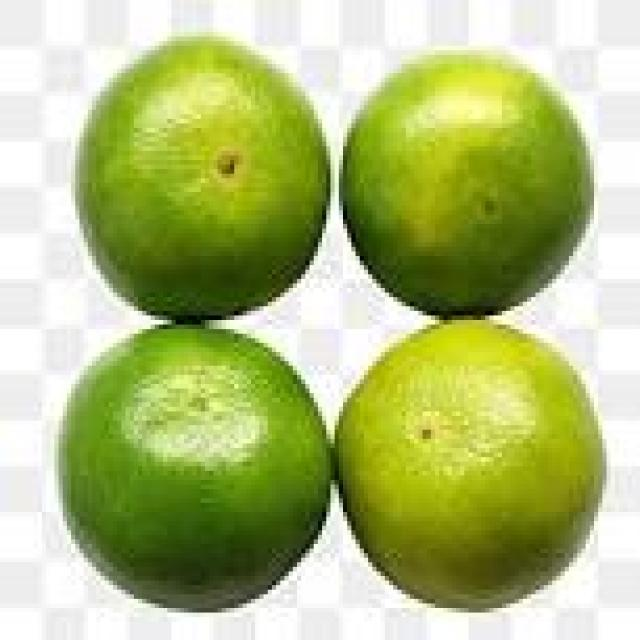orange: (59, 325, 326, 608), (339, 320, 598, 603), (75, 37, 326, 315), (343, 55, 590, 311)
